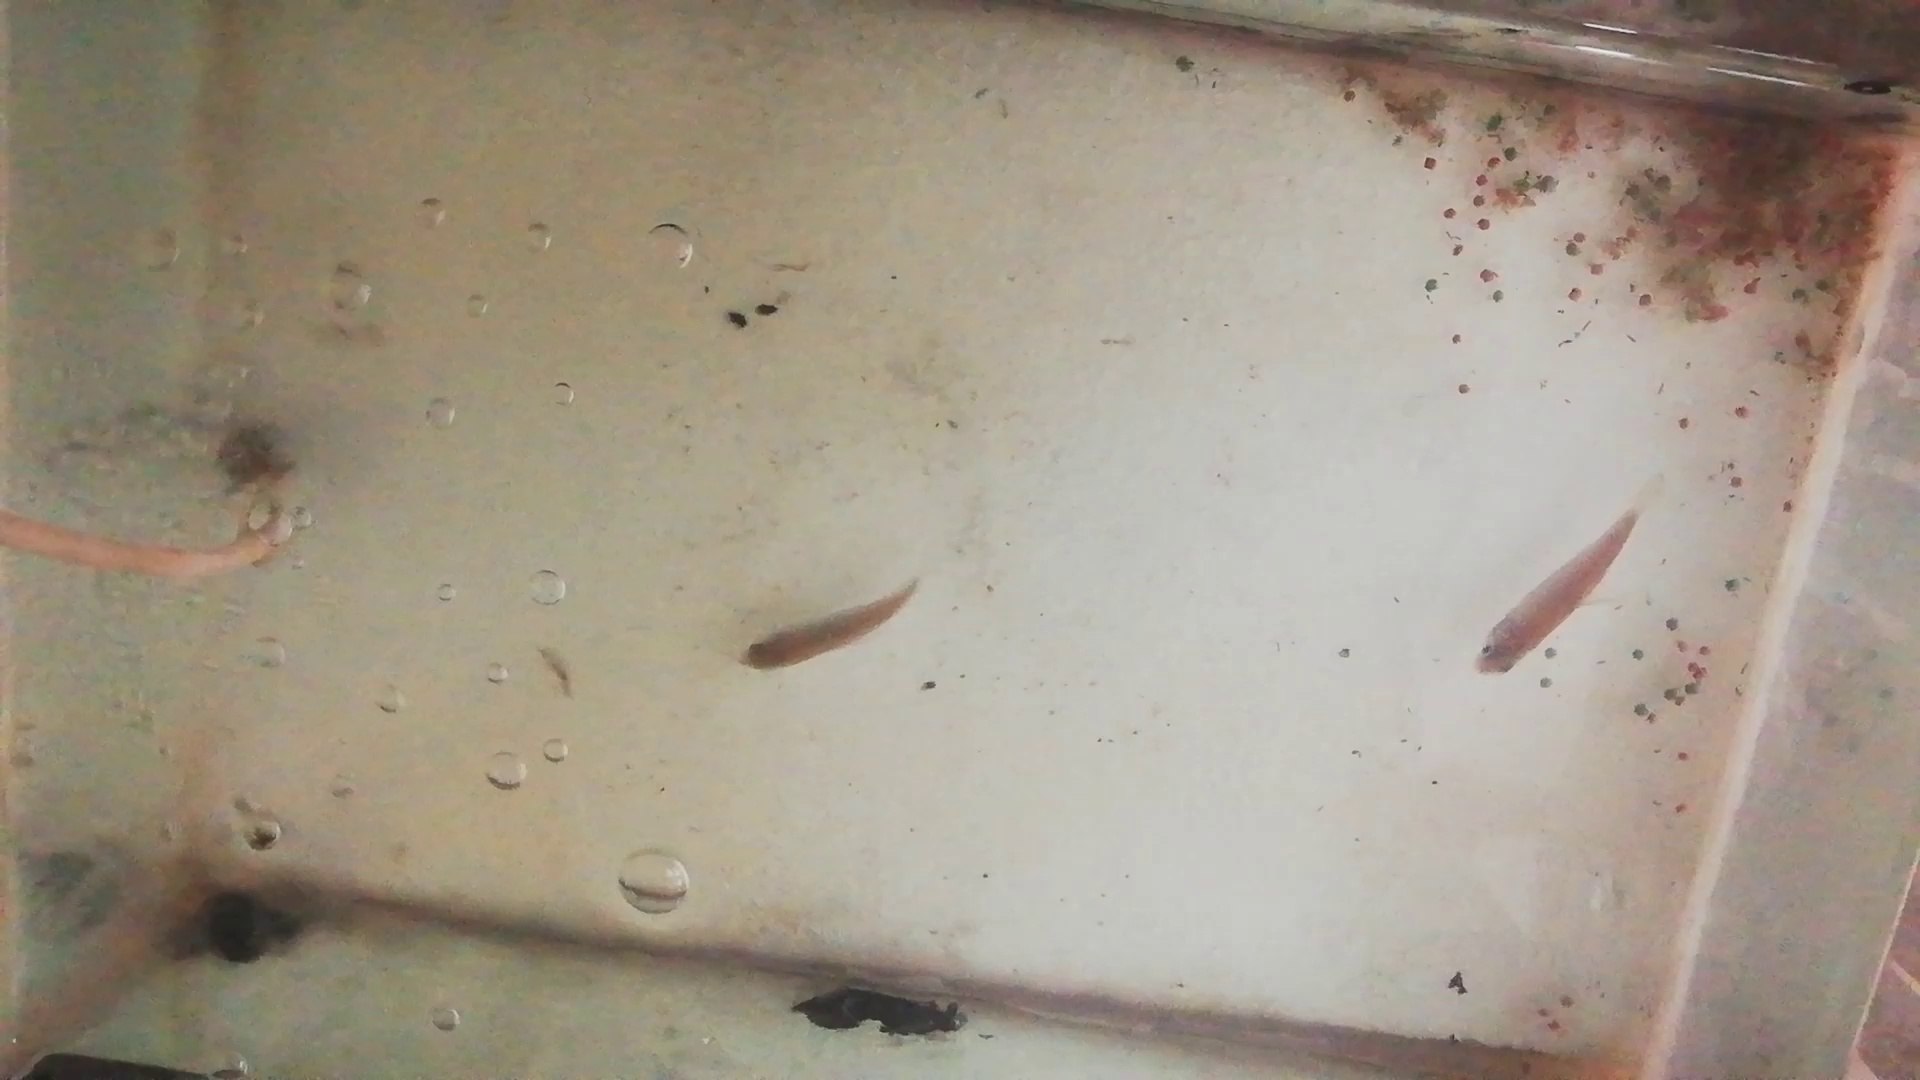fish: (1473, 510, 1634, 671), (732, 582, 919, 671)
